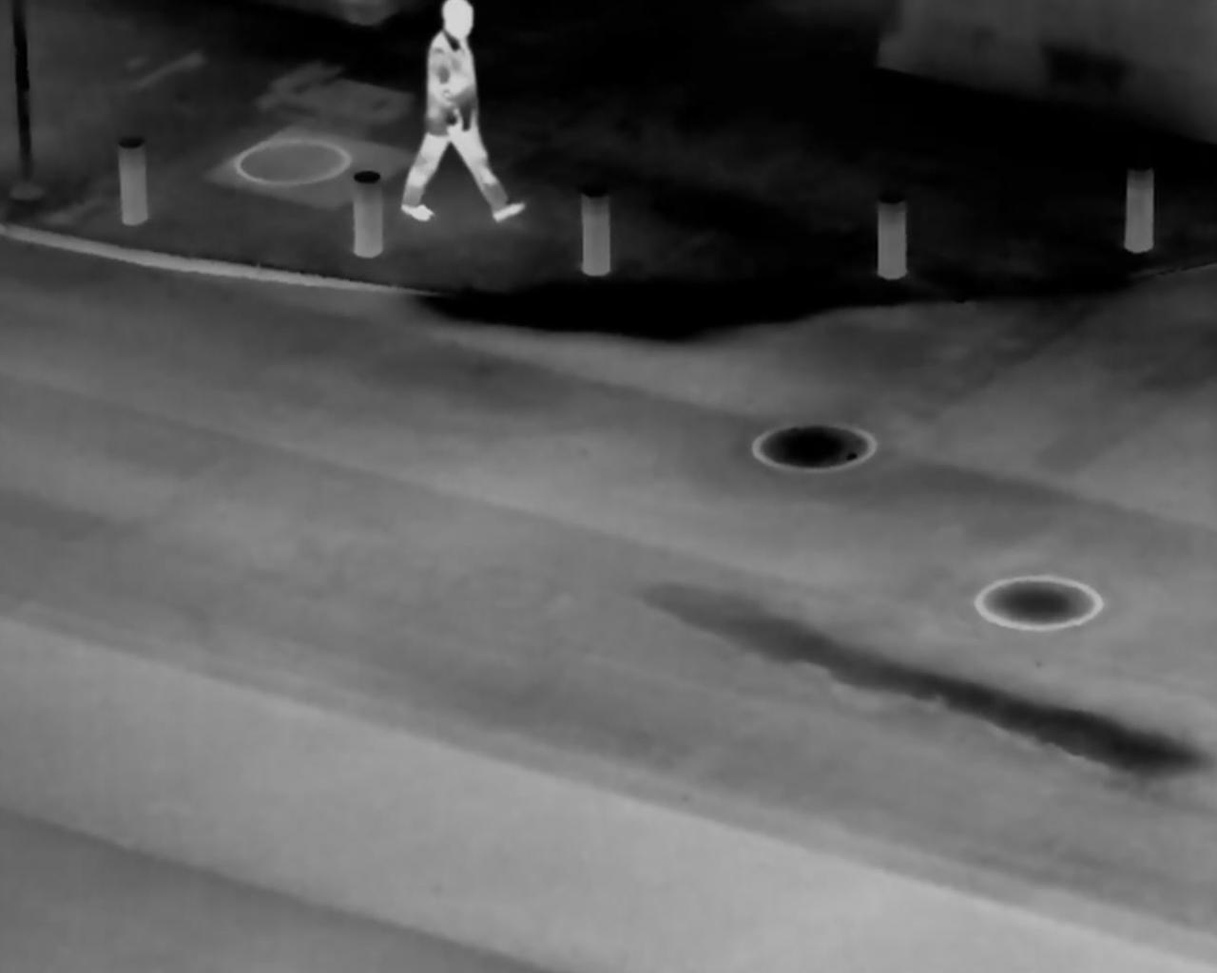person: (399, 2, 524, 227)
